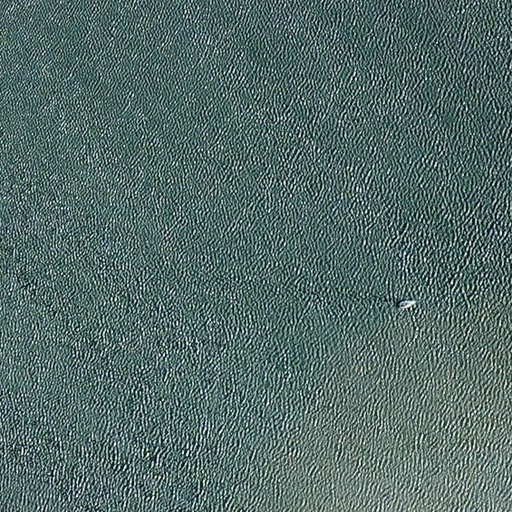ship: (397, 296, 418, 312)
